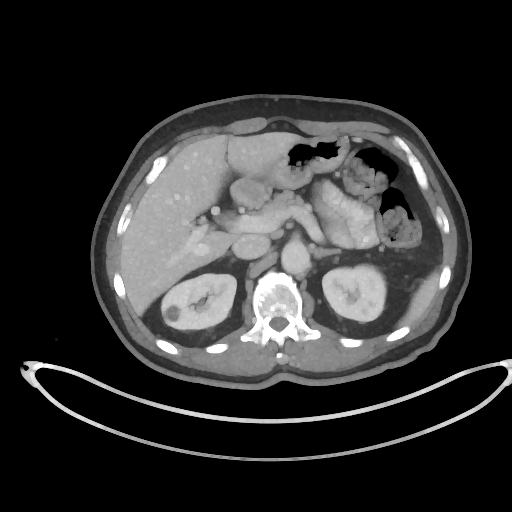Lesion: (164, 305, 183, 324)
